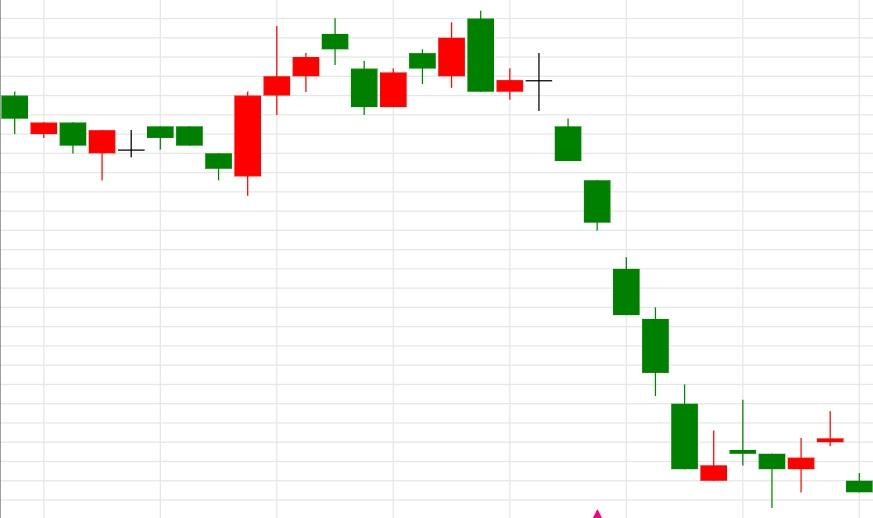bearish_engulfing_fall: (350, 10, 494, 116)
bullish_engulfing_rise: (146, 91, 261, 196)
